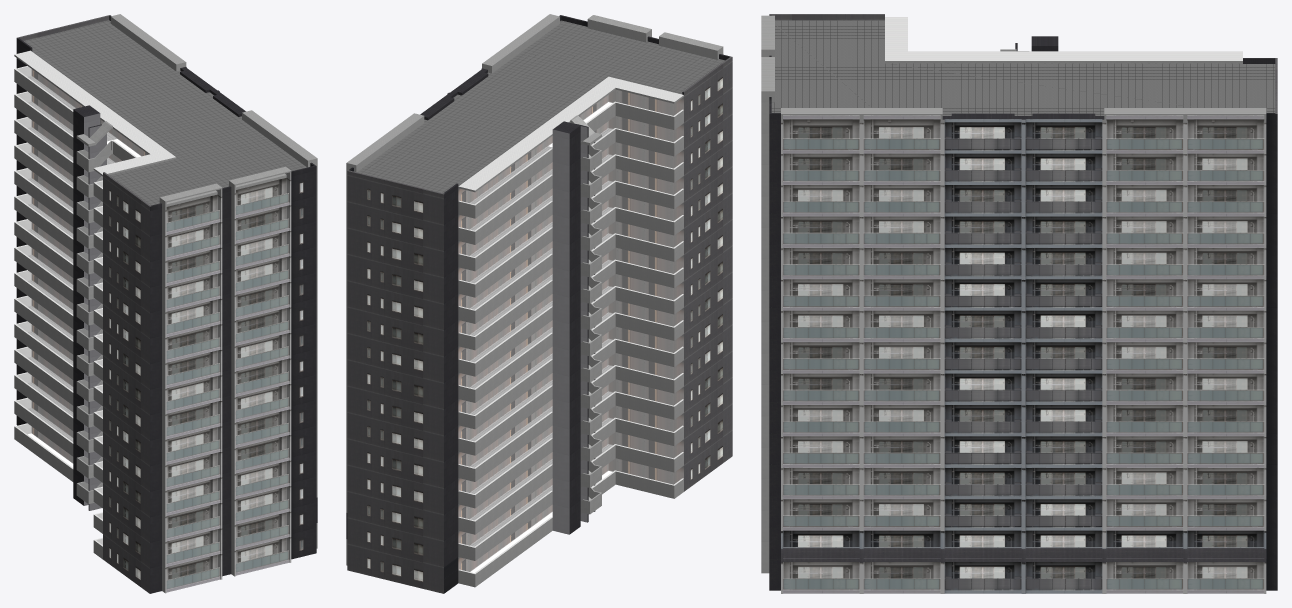
3 renders of one model, left to right at view 1: azimuth 30°, elevation 25°; view 2: azimuth 150°, elevation 25°; view 3: azimuth 270°, elevation 25°, orthographic. The views are drawn at different scales.
Visible parts, largest first — view 1: 15F, 屋上, 14F, 10F, 8F, 5F, 11F, 12F, 2F, 3F, 4F, 7F (+9 smaller); view 2: 15F, 屋上, 14F, 11F, 12F, 4F, 7F, 9F, 3F, 6F, 10F, 5F (+8 smaller); view 3: 15F, 9F, 14F, 3F, 4F, 5F, 10F, 2F, 7F, 6F, 8F, 11F (+10 smaller).
Part boxes in pixels (x1,y1,x2,y2): 15F: (14, 20, 317, 236); 屋上: (14, 14, 317, 210); 14F: (14, 84, 317, 261); 10F: (14, 170, 317, 363); 8F: (14, 221, 317, 414); 5F: (14, 297, 317, 491); 11F: (14, 144, 317, 338); 12F: (14, 119, 317, 312); 2F: (14, 374, 317, 568); 3F: (14, 364, 317, 542); 4F: (14, 323, 317, 517); 7F: (14, 246, 317, 440); 15F: (346, 20, 732, 224); 屋上: (346, 14, 732, 198); 14F: (346, 88, 732, 251); 11F: (346, 167, 732, 330); 12F: (346, 140, 732, 303); 4F: (346, 351, 732, 514); 7F: (346, 272, 732, 435); 9F: (346, 219, 732, 383); 3F: (346, 377, 732, 541); 6F: (346, 298, 732, 462); 10F: (346, 193, 732, 356); 5F: (346, 325, 732, 488); 15F: (761, 20, 1277, 154); 9F: (761, 290, 1277, 342); 14F: (761, 133, 1277, 185); 3F: (761, 479, 1277, 531); 4F: (761, 447, 1277, 499); 5F: (761, 416, 1277, 468); 10F: (761, 259, 1277, 311); 2F: (761, 510, 1277, 562); 7F: (761, 353, 1277, 405); 6F: (761, 385, 1277, 436); 8F: (761, 322, 1277, 373); 11F: (761, 228, 1277, 279).
Bounding box in the file's own units: 21.2 × 46.05 × 44.7.
Materials: 35 (35 with a texture image).
